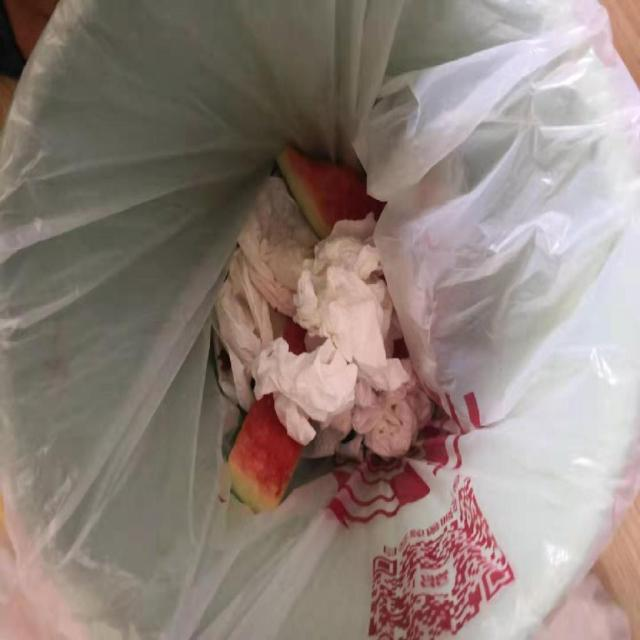Wet: (273, 145, 389, 243), (227, 389, 304, 514)
